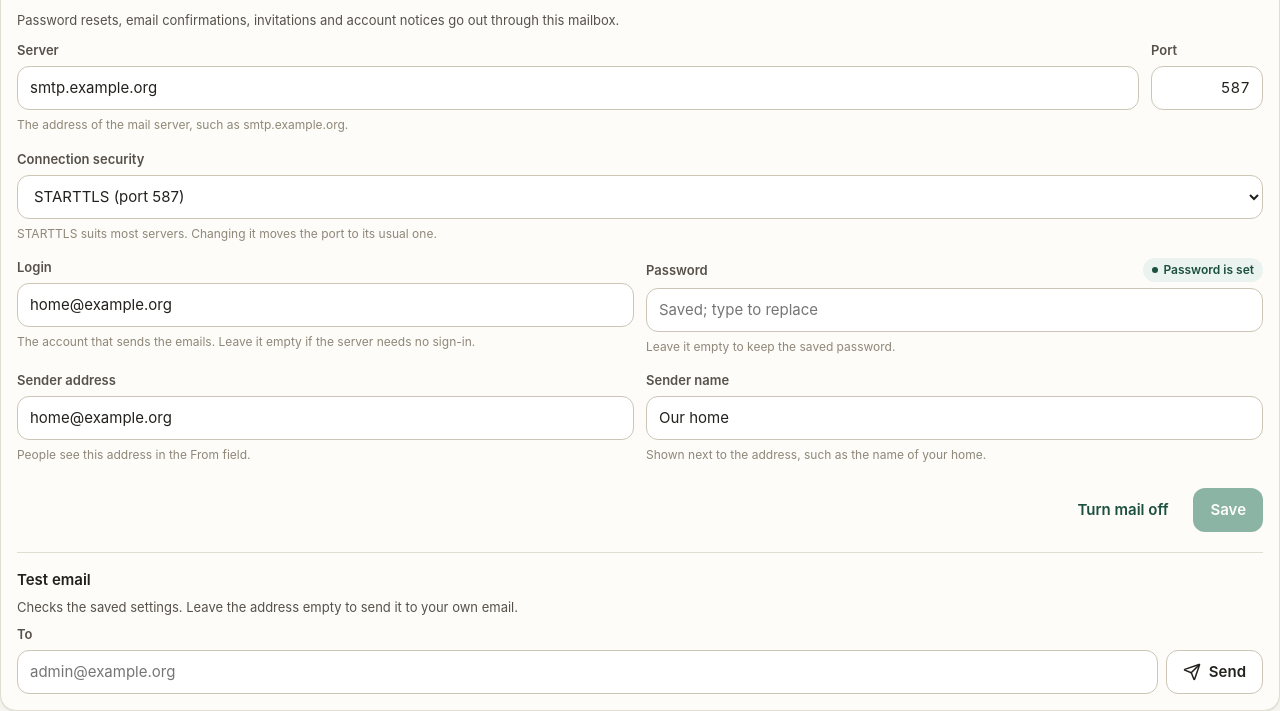
Scenario: MailboxCard › sends a test email to the admin’s own address and says where it went
(page scrolled)
Click the button "Send".
click(1214, 672)  # box [1166,650,1263,694]
(page scrolled)
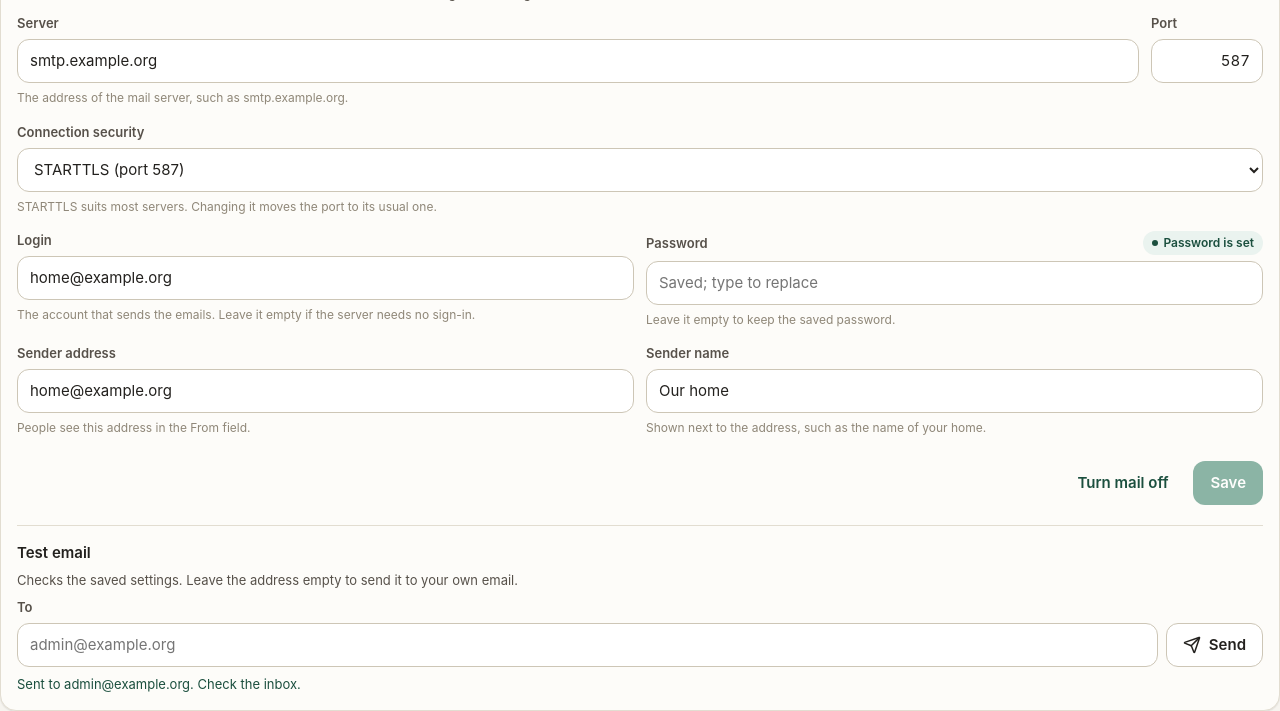
expect the text "Sent to admin@example.org. Check the inbox." is shown: met, box [17,676,301,692]
